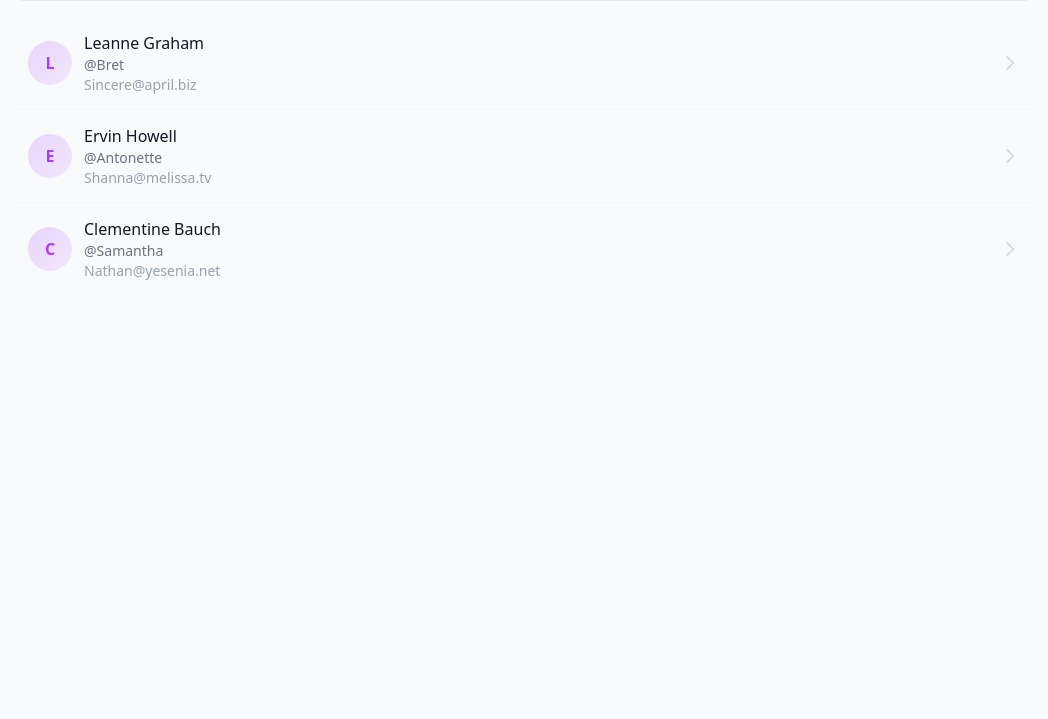
Test: Pagination › shows pagination controls when user has 6 posts (default 5 per page)
The width and height of the screenshot is (1048, 719).
// Click on first user
Click the heading "Leanne Graham".
click(144, 43)  # box [84, 32, 204, 54]
(page scrolled)
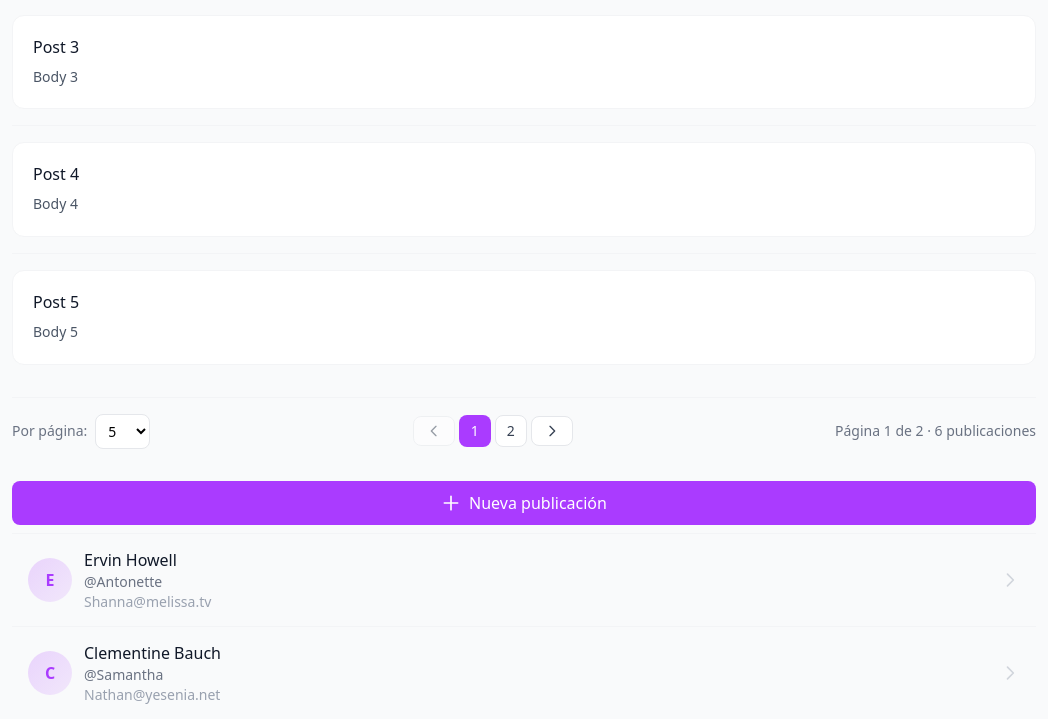
expect the text "Página 1 de 2 · 6 publicaciones" is shown: met, box [835, 421, 1036, 441]
